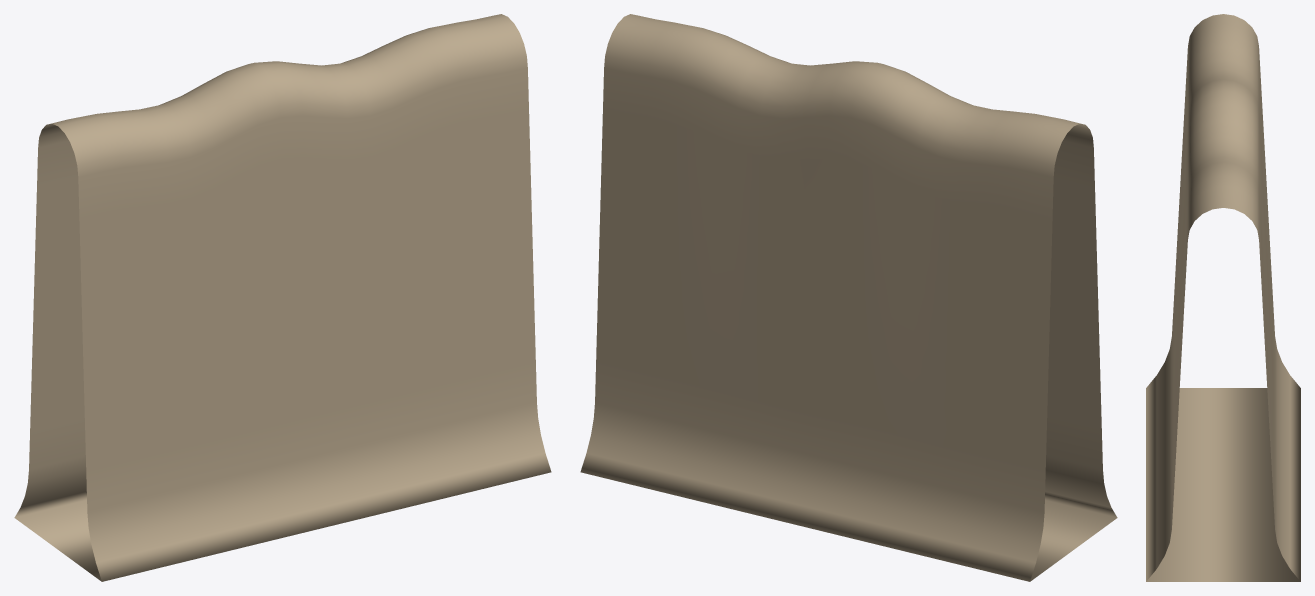
Rendered from KFB_Wall_straight.r3.glb.
The picture shows the model from 3 angles, left to right: view 1: azimuth 30°, elevation 25°; view 2: azimuth 150°, elevation 25°; view 3: azimuth 270°, elevation 25°; orthographic projection. The views are drawn at different scales.
Visible parts, largest first — view 1: KFB_Wall_straight; view 2: KFB_Wall_straight; view 3: KFB_Wall_straight.
Boxes of the visible parts, <box> form: KFB_Wall_straight: <box>14,14,551,581</box>; KFB_Wall_straight: <box>580,14,1117,581</box>; KFB_Wall_straight: <box>1146,14,1300,581</box>.
Bounding box in the file's own units: 4 × 3.7 × 1.35.
